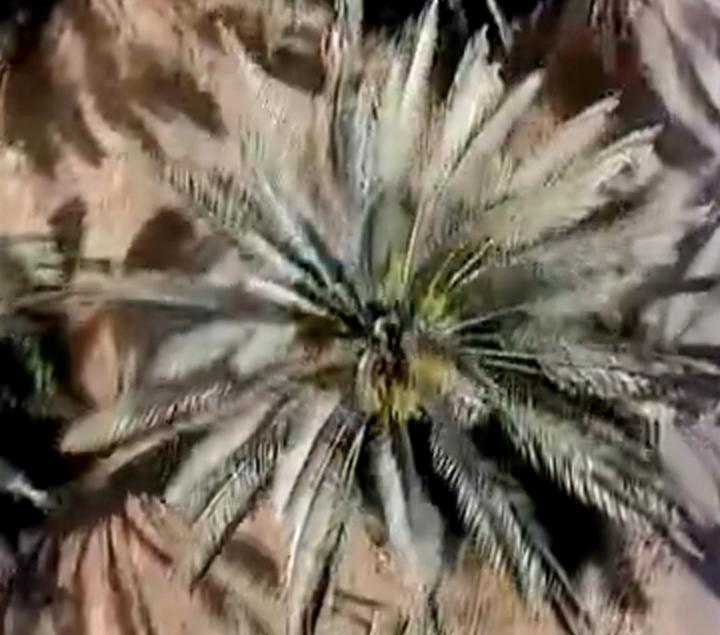Date-Palm-Crown: (259, 175, 532, 484)
